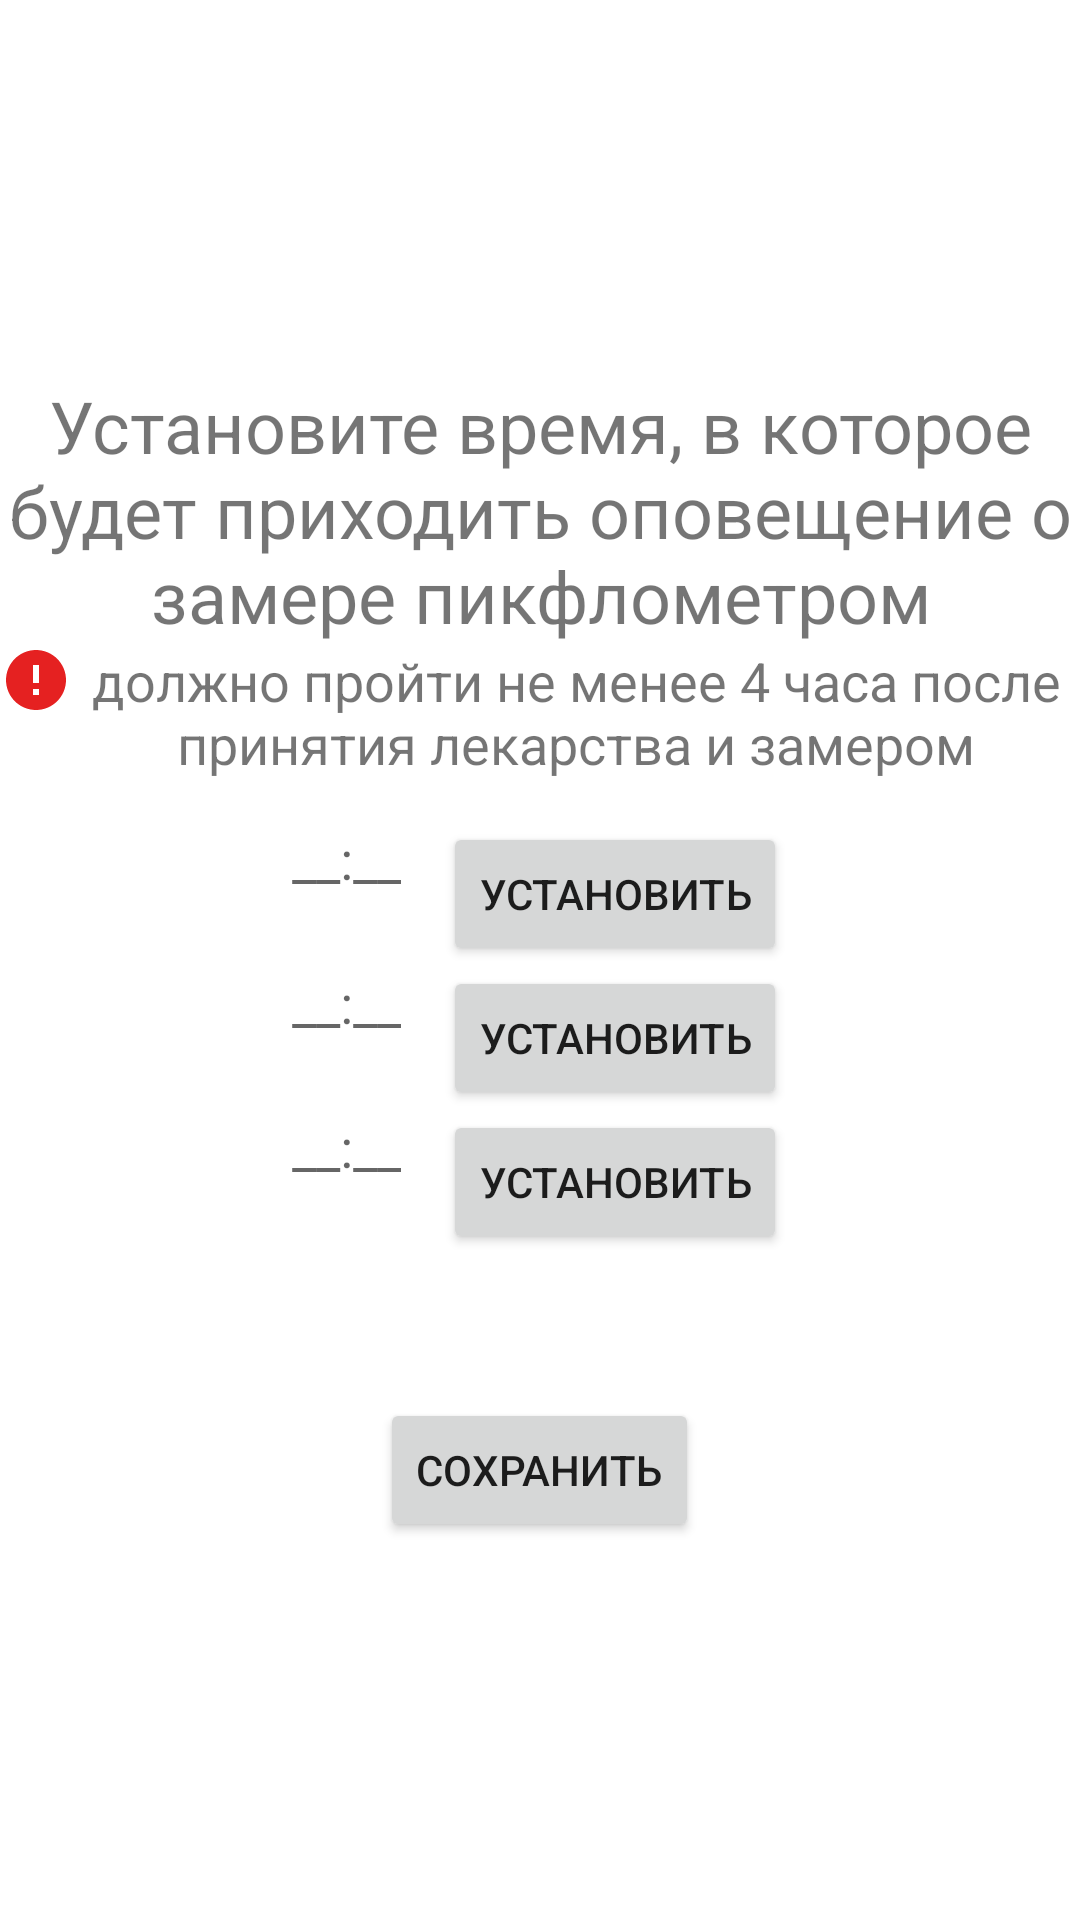

Locate icon controls on the screen. Image size 1080px x 1920px, boxes as bbox=[x1, y1, x2, y2].
error: bbox=[6, 650, 66, 710]
